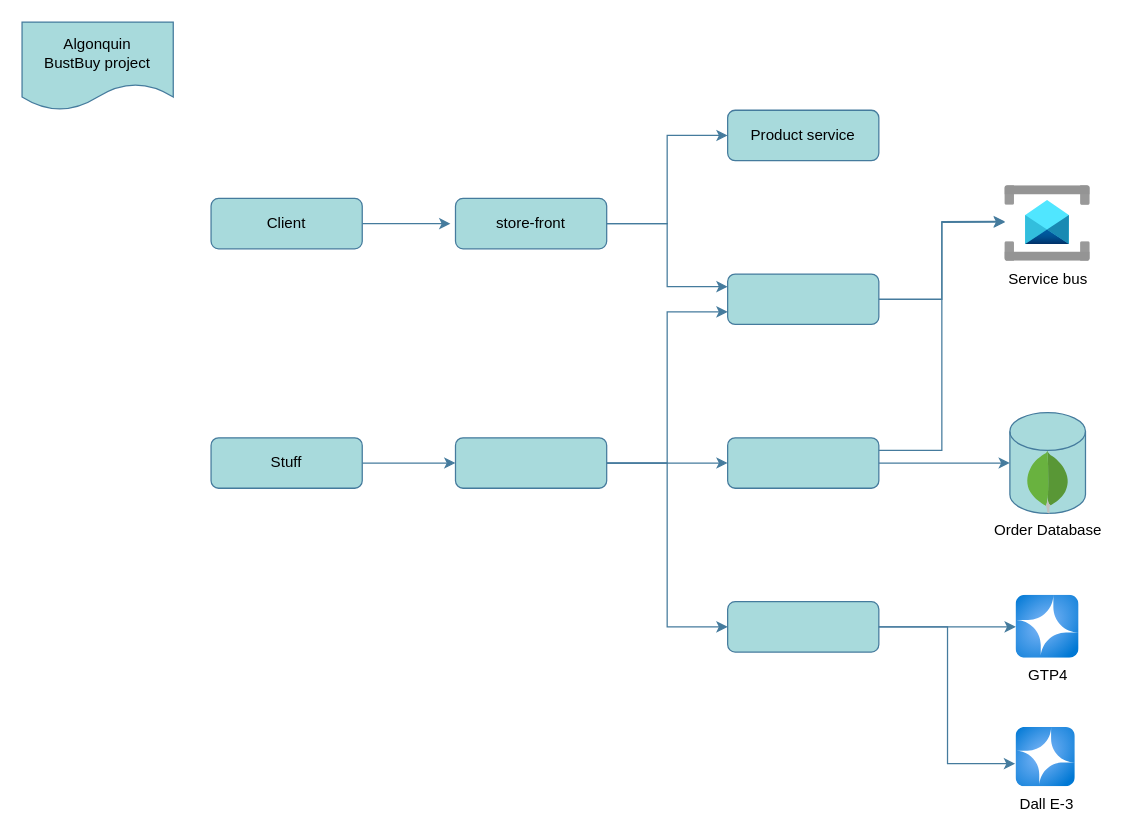
Image size: 1123x835. Some labels were removed from this diagram. Each missing label, with the centre of its shape:
admin-front: [530,462]
AI-service: [802,626]
Makeline service: [802,462]
Order service: [802,298]
